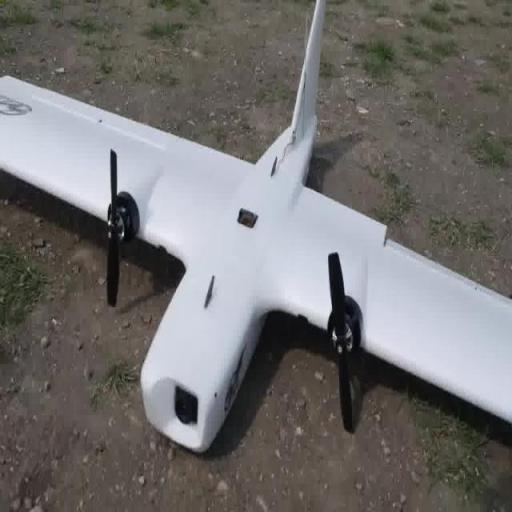uav: (0, 1, 512, 452)
